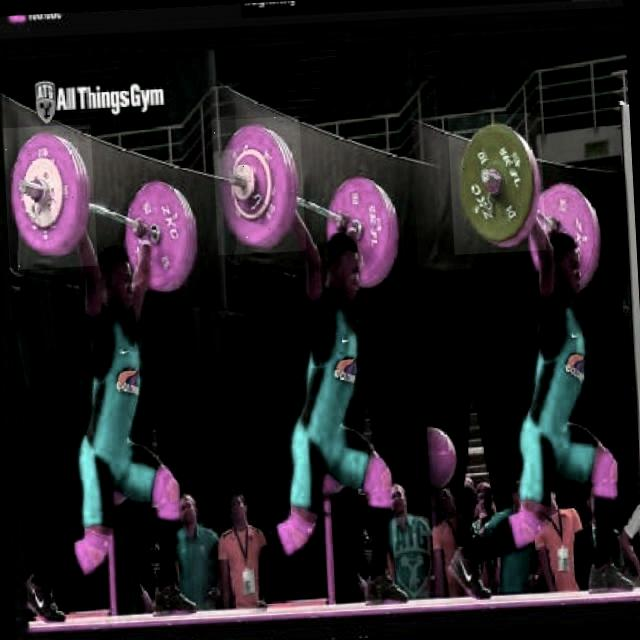barbell: (449, 113, 547, 256), (4, 125, 98, 271), (212, 116, 307, 256)
